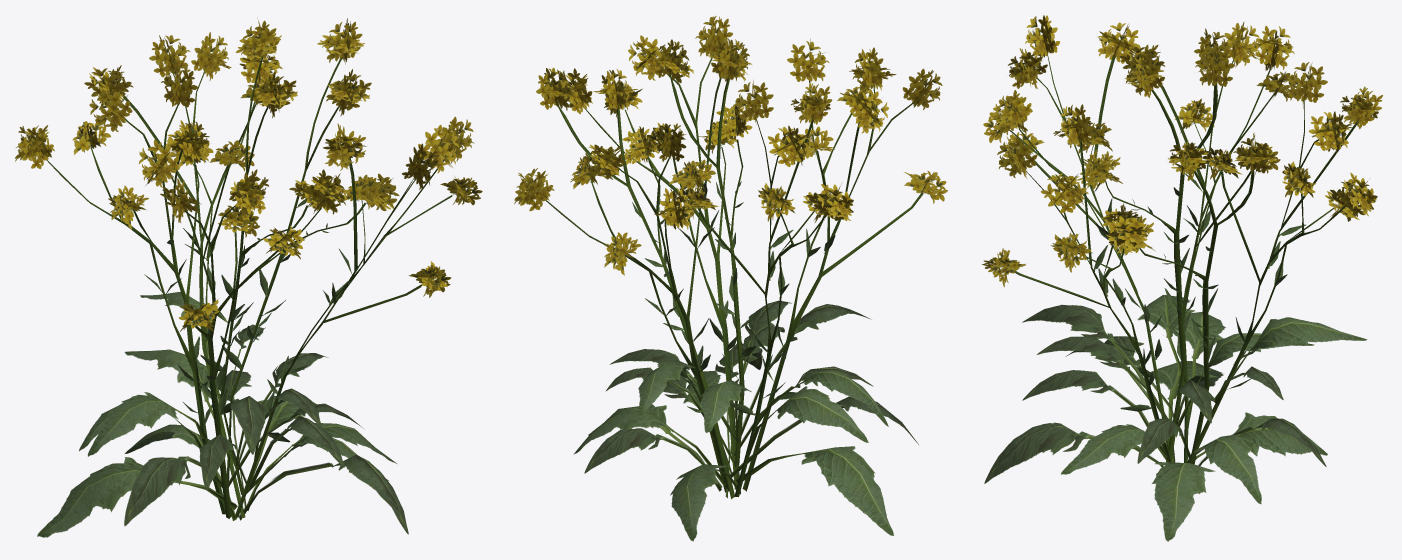
Rendered from yellow_flower.glb.
3 renders of one model, left to right at view 1: azimuth 30°, elevation 25°; view 2: azimuth 150°, elevation 25°; view 3: azimuth 270°, elevation 25°, orthographic. The views are drawn at different scales.
Parts seen in each view (by area): view 1: bq_Flower_Bunias-orientalis_A_summer; view 2: bq_Flower_Bunias-orientalis_A_summer; view 3: bq_Flower_Bunias-orientalis_A_summer.
Boxes of the visible parts, left/top/right/bottom form: bq_Flower_Bunias-orientalis_A_summer: left=15, top=17, right=482, bottom=537; bq_Flower_Bunias-orientalis_A_summer: left=514, top=16, right=947, bottom=541; bq_Flower_Bunias-orientalis_A_summer: left=982, top=15, right=1382, bottom=541.
Bounding box in the file's own units: 0.756 × 0.8743 × 0.6951.
Materials: 2 (2 with a texture image).
